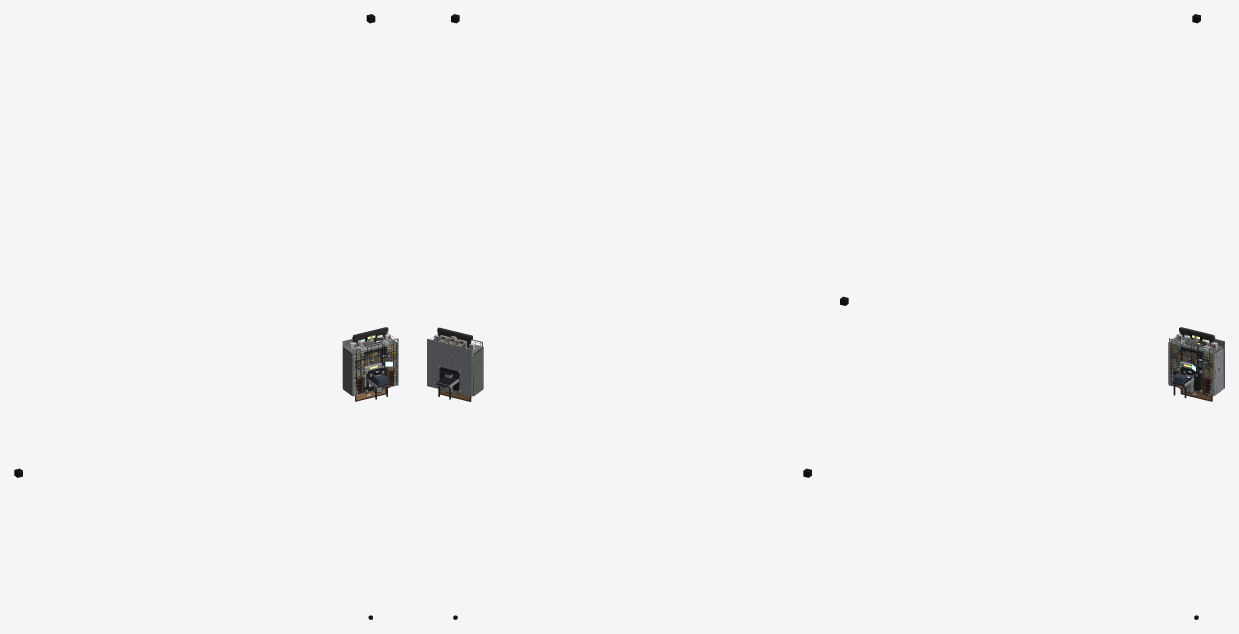
File: DeathsGambitModels_Agency.fbx
3 views of the same model, side by side, from view 1: azimuth 30°, elevation 25°; view 2: azimuth 150°, elevation 25°; view 3: azimuth 330°, elevation 25° (orthographic).
Parts seen in each view (by area): view 1: ArchiveShelving, EvidenceCage; view 2: EvidenceCage, ArchiveShelving; view 3: EvidenceCage, ArchiveShelving, BureauCooler.
Part boxes in pixels (box(x1,y1,x2,y2)): ArchiveShelving: box(343, 338, 397, 396); EvidenceCage: box(342, 332, 398, 396); EvidenceCage: box(427, 332, 482, 396); ArchiveShelving: box(433, 339, 483, 396); EvidenceCage: box(1169, 332, 1224, 396); ArchiveShelving: box(1168, 337, 1222, 394); BureauCooler: box(1170, 344, 1223, 395).
Size of the model in its own units: 68.75 by 105 by 9.8.
92 materials, 42 textured.
